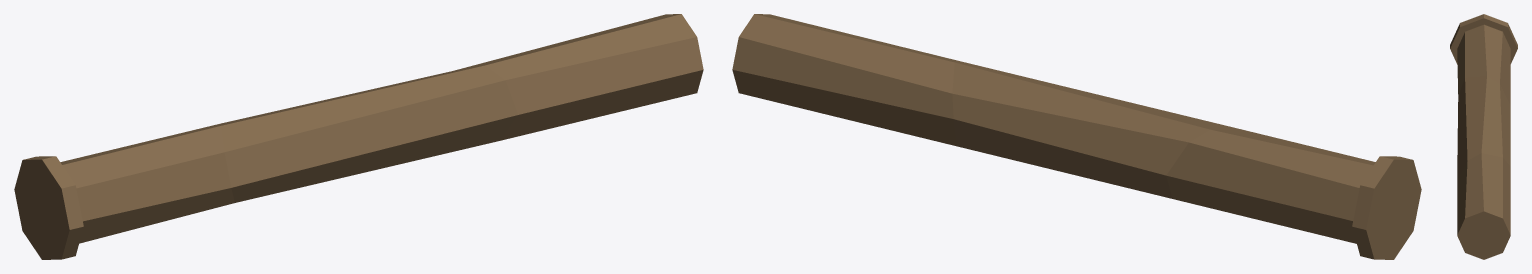
The model's file is SM_Prop_Pipe_01_Straight_01.fbx.
3 renders of one model, left to right at view 1: azimuth 30°, elevation 25°; view 2: azimuth 150°, elevation 25°; view 3: azimuth 270°, elevation 25°, orthographic. The views are drawn at different scales.
Parts seen in each view (by area): view 1: SM_Prop_Pipe_01_Straight_01; view 2: SM_Prop_Pipe_01_Straight_01; view 3: SM_Prop_Pipe_01_Straight_01.
Boxes of the visible parts, x1,y1,x2,y2 form: SM_Prop_Pipe_01_Straight_01: (14,14,703,259); SM_Prop_Pipe_01_Straight_01: (732,14,1421,259); SM_Prop_Pipe_01_Straight_01: (1450,14,1517,259).
Size of the model in its own units: 253 by 37.9 by 37.9.
